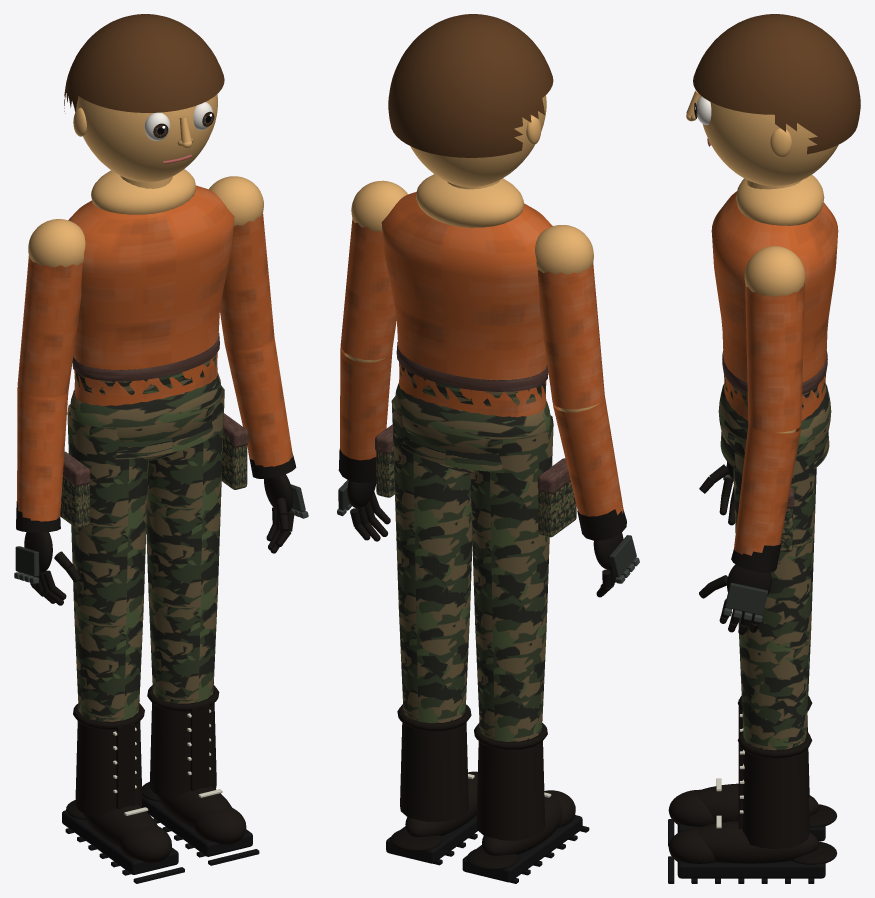
Rendered from 01-manches-longues.glb.
3 renders of one model, left to right at view 1: azimuth 30°, elevation 25°; view 2: azimuth 150°, elevation 25°; view 3: azimuth 270°, elevation 25°, orthographic. The views are drawn at different scales.
Bounding box in the file's own units: 0.6344 × 1.77 × 0.3715.
22 materials, 4 textured.
